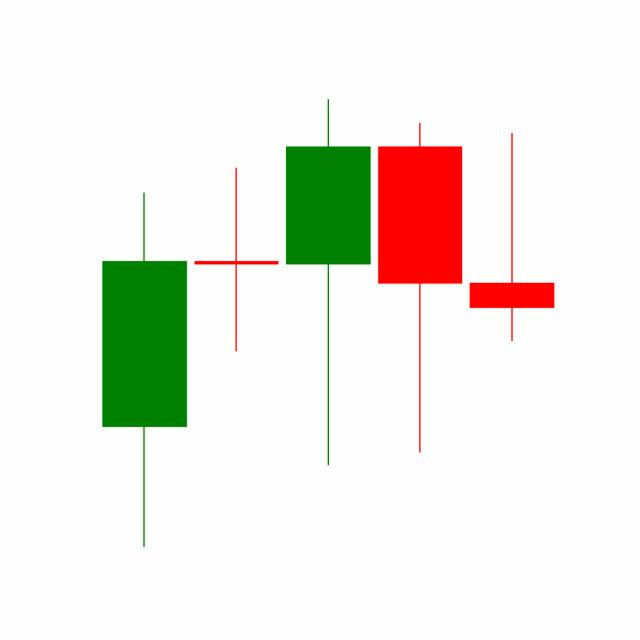Gravestone Doji: (464, 129, 558, 344)
